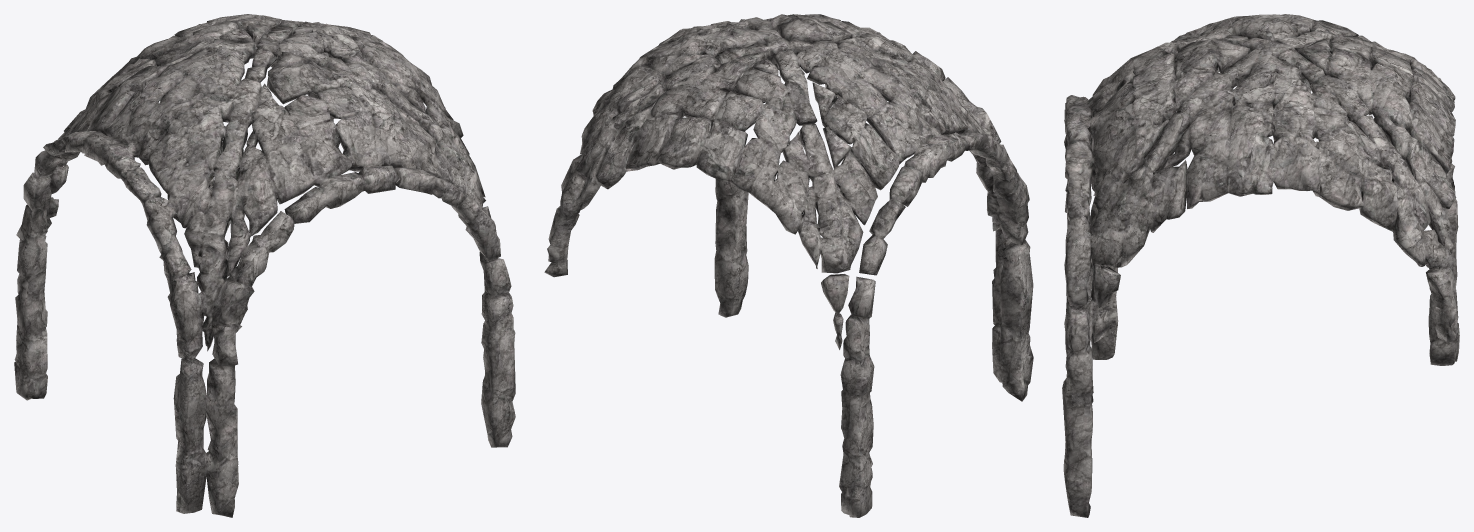
Rendered from corn_anim.gltf.
3 views of the same model, side by side, from view 1: azimuth 30°, elevation 25°; view 2: azimuth 150°, elevation 25°; view 3: azimuth 270°, elevation 25° (orthographic). The views are drawn at different scales.
Visible parts, largest first — view 1: Walls LP.001; view 2: Walls LP.001; view 3: Walls LP.001.
Part boxes in pixels (<box>): Walls LP.001: <box>14,14,515,517</box>; Walls LP.001: <box>544,14,1033,517</box>; Walls LP.001: <box>1062,14,1459,517</box>.
Bounding box in the file's own units: 3.28 × 3.64 × 3.27.
